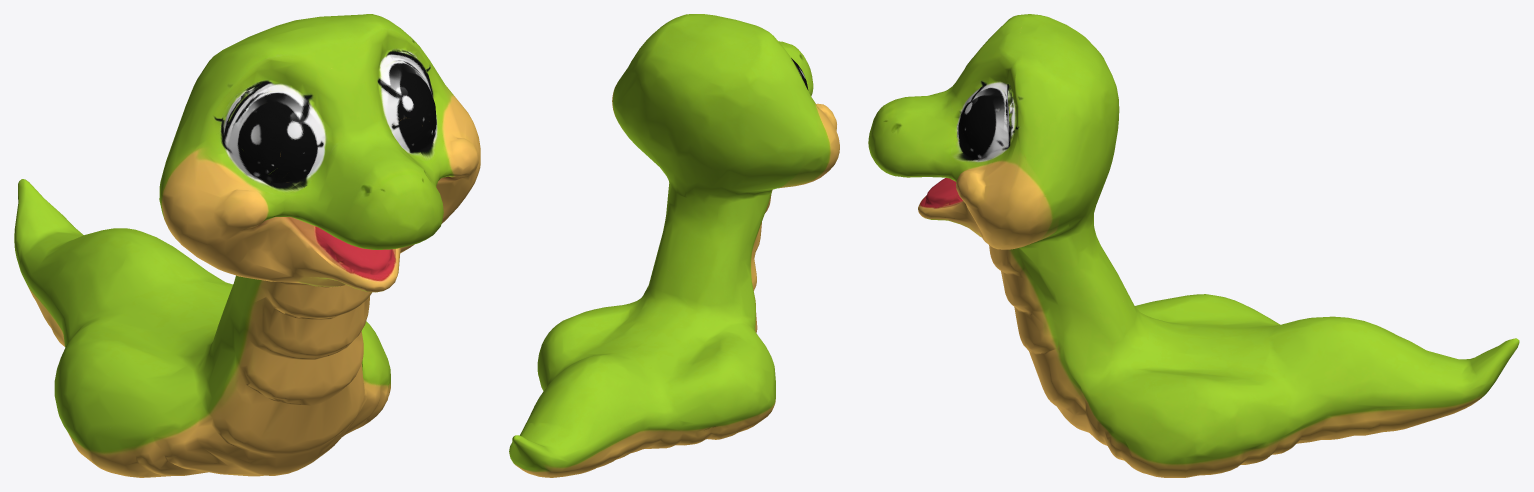
Rendered from snake.glb.
3 views of the same model, side by side, from view 1: azimuth 30°, elevation 25°; view 2: azimuth 150°, elevation 25°; view 3: azimuth 270°, elevation 25° (orthographic). The views are drawn at different scales.
Bounding box in the file's own units: 0.8601 × 1.29 × 1.9.
1 material, 1 textured.
